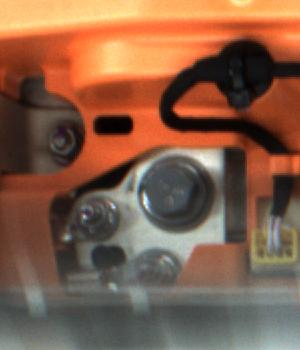nut_b: (135, 151, 222, 236)
